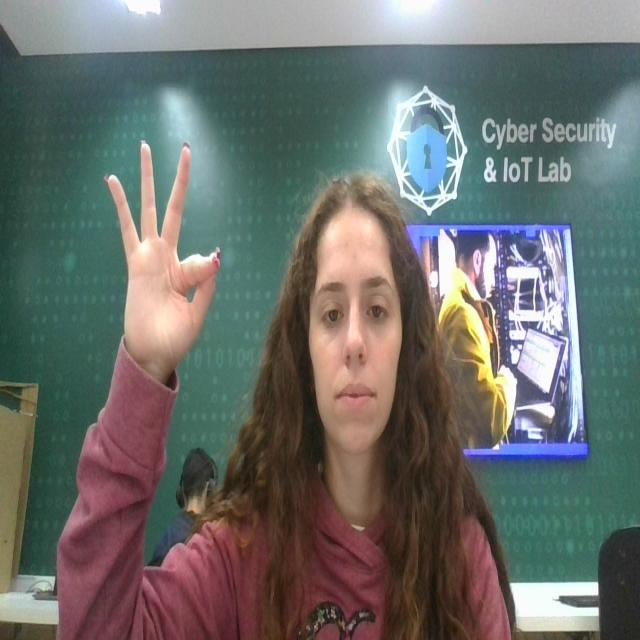F: (94, 122, 241, 398)
